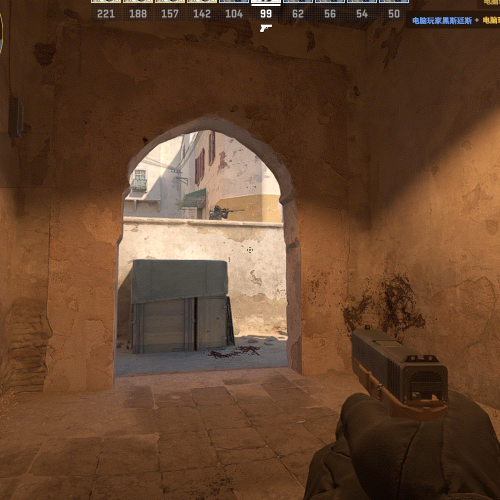ct_head: (213, 205, 221, 213)
